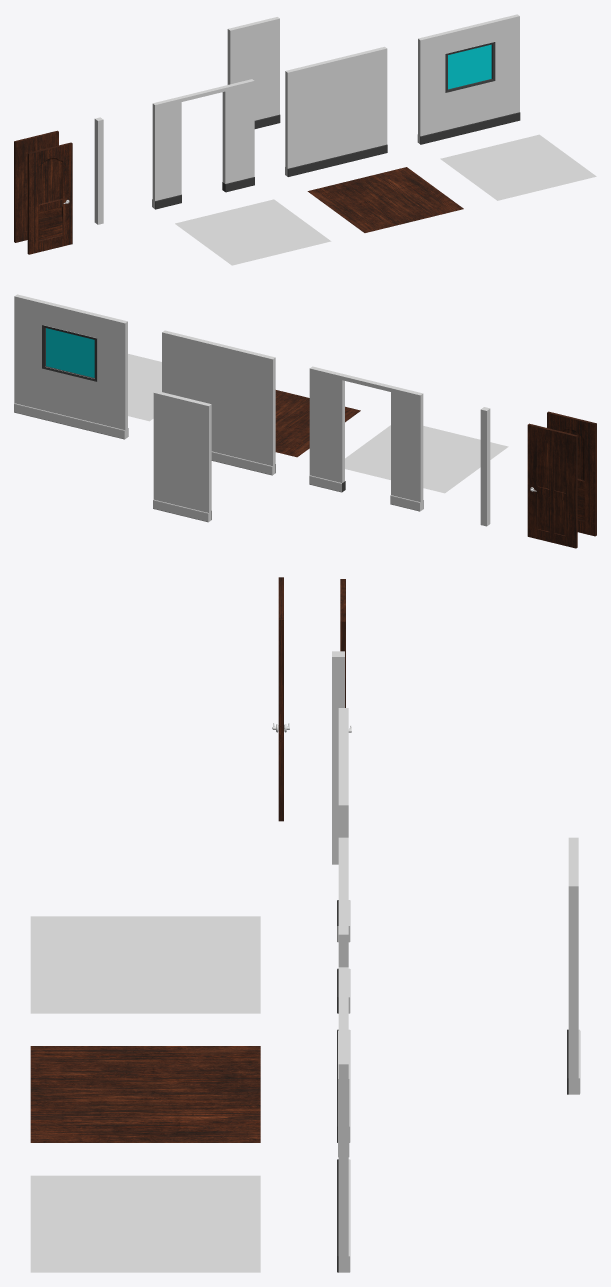
The model's file is Modular_Bedroom.fbx.
The picture shows the model from 3 angles, top to bottom: view 1: azimuth 30°, elevation 25°; view 2: azimuth 150°, elevation 25°; view 3: azimuth 270°, elevation 25°; orthographic projection. The views are drawn at different scales.
Parts seen in each view (by area): view 1: wallPlainLarge, wallWindow, wallDoor, floorKitchen, floorWood, floorCarpet, Door02, wallPlainSmall, Door01, CornerPost; view 2: wallWindow, wallPlainLarge, wallDoor, wallPlainSmall, Door01, floorCarpet, Door02, floorWood, floorKitchen, CornerPost; view 3: floorCarpet, floorKitchen, floorWood, wallWindow, wallPlainSmall, wallDoor, CornerPost, wallPlainLarge, Door02.
Boxes of the visible parts, x1,y1,x2,y2 form: wallPlainLarge: (285,46,387,176); wallWindow: (417,14,520,144); wallDoor: (152,79,254,209); floorKitchen: (440,134,596,200); floorWood: (307,167,463,232); floorCarpet: (175,199,331,265); Door02: (27,142,72,254); wallPlainSmall: (227,17,280,128); Door01: (14,130,58,242); CornerPost: (94,117,103,224); wallWindow: (14,294,128,439); wallPlainLarge: (162,330,275,475); wallDoor: (309,366,423,511); wallPlainSmall: (153,390,211,522); Door01: (527,423,577,548); floorCarpet: (345,425,508,493); Door02: (547,411,596,536); floorWood: (275,390,360,457); floorKitchen: (128,354,161,421); CornerPost: (480,407,490,526); floorCarpet: (30,916,260,1013); floorKitchen: (30,1175,260,1272); floorWood: (30,1046,260,1142); wallWindow: (337,967,350,1272); wallPlainSmall: (567,837,580,1094); wallDoor: (337,708,350,1013); CornerPost: (332,651,344,864); wallPlainLarge: (337,837,350,1142); Door02: (278,577,283,821).
Bounding box in the file's own units: 1525 × 717 × 300.
